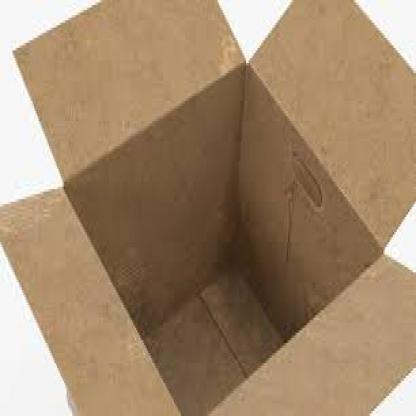CARDBOARD: (0, 0, 415, 414), (11, 0, 243, 182), (246, 0, 415, 247), (0, 184, 180, 414), (198, 252, 414, 414)
